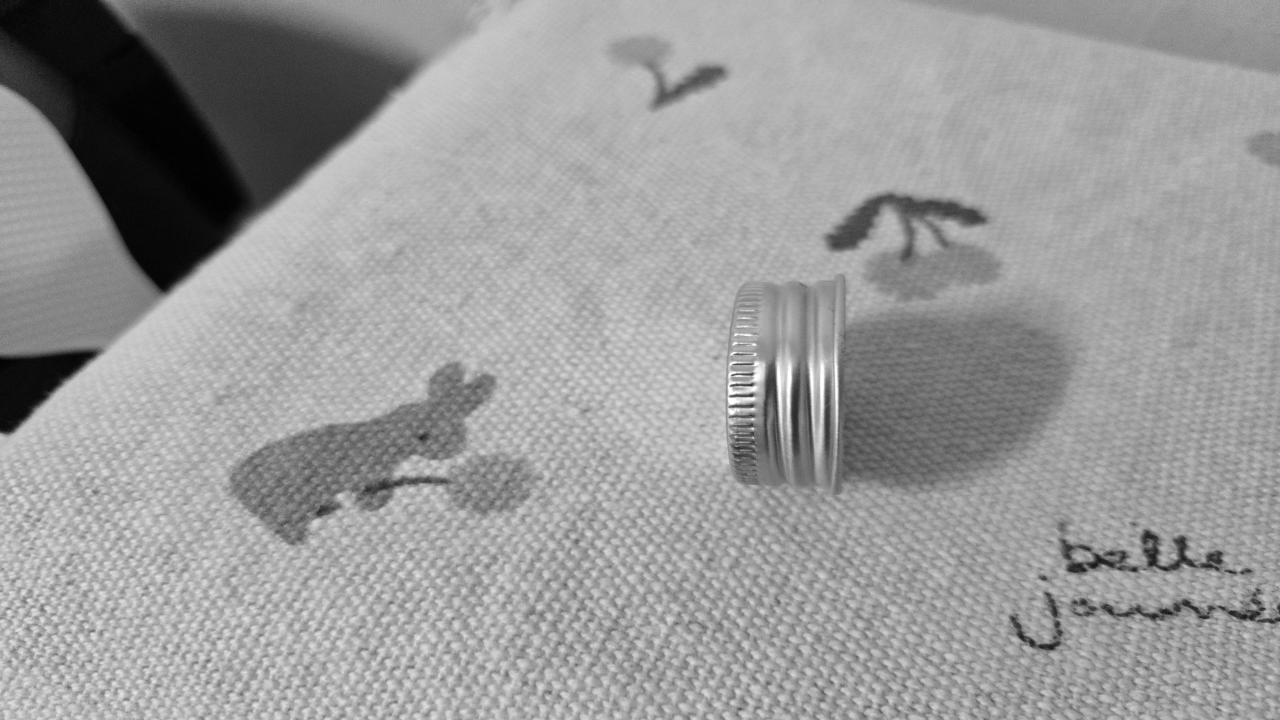bottle_cap: (722, 276, 852, 499)
